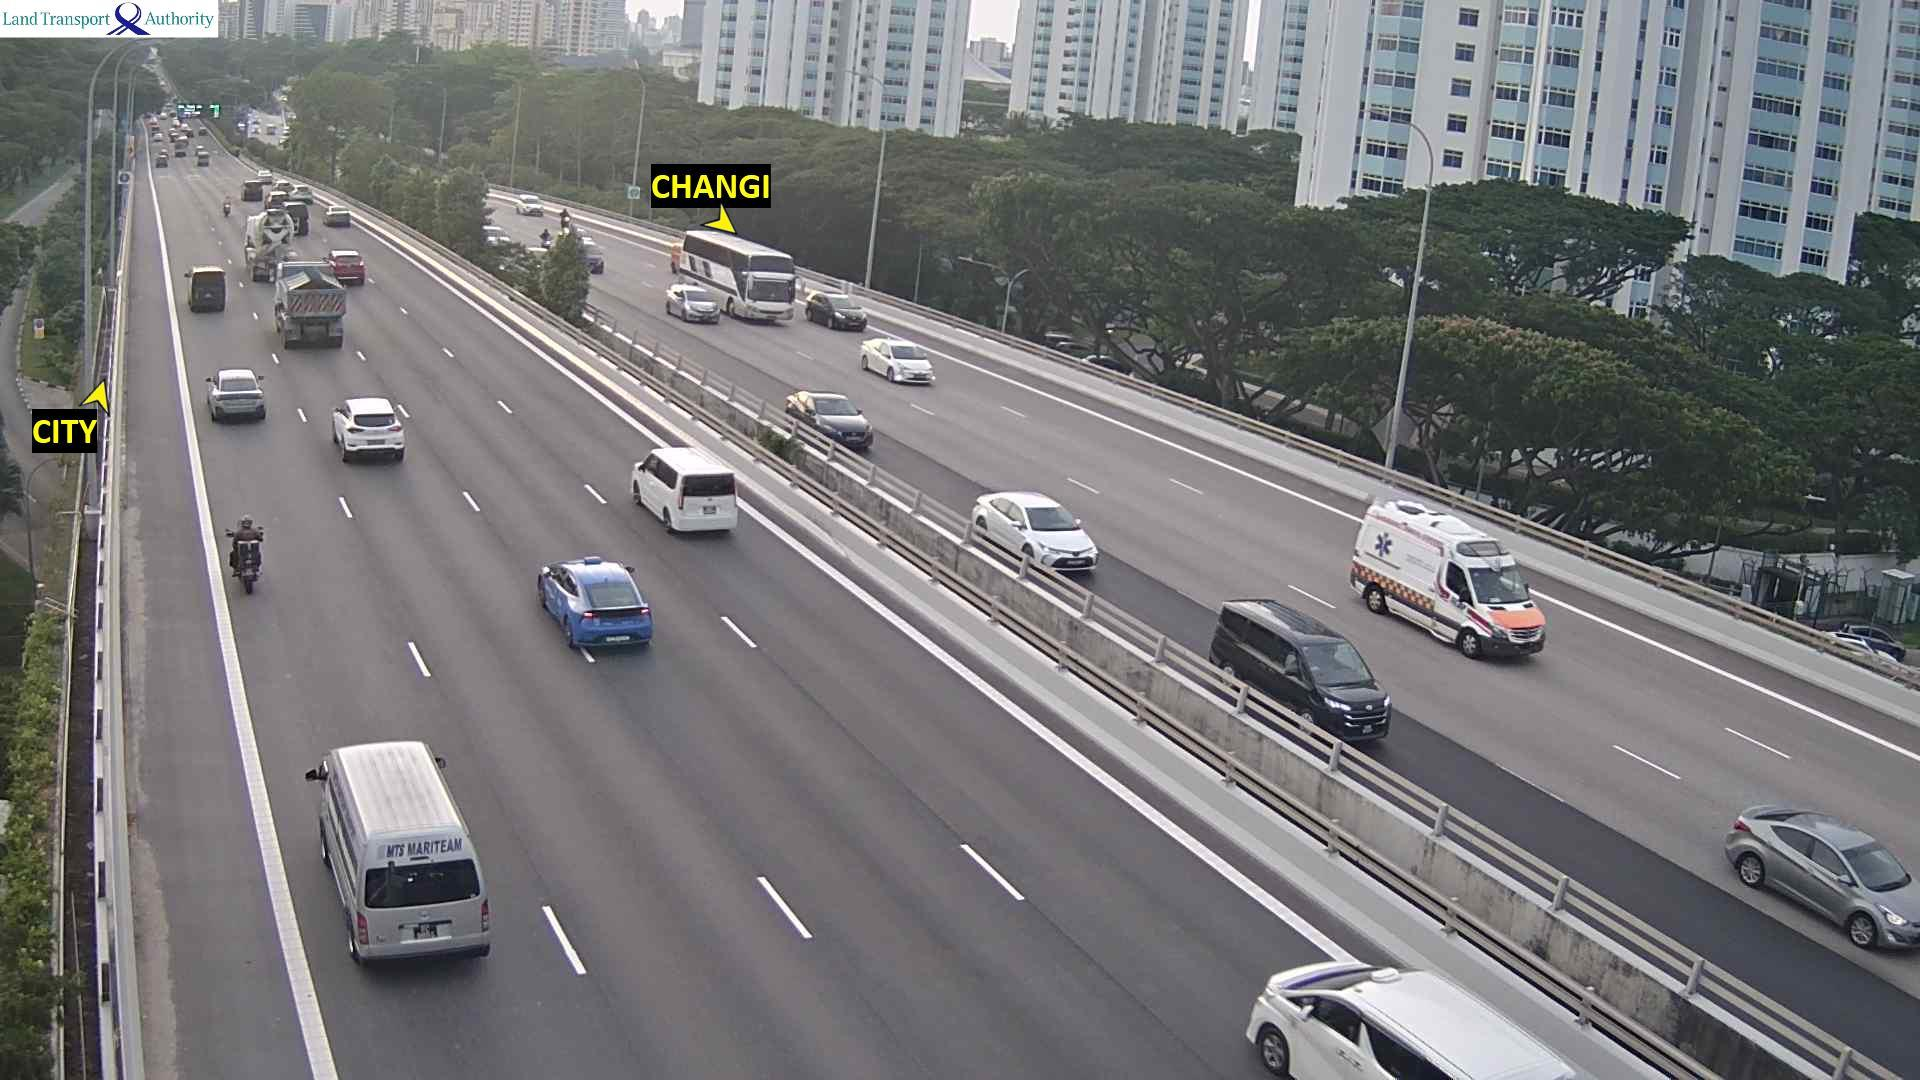incoming: (1296, 640, 1394, 740), (1834, 849, 1920, 953), (1461, 556, 1547, 658), (1017, 501, 1097, 570), (745, 251, 798, 323), (811, 400, 878, 448), (885, 345, 938, 384), (824, 295, 869, 334), (682, 289, 720, 326), (585, 247, 611, 276), (520, 195, 546, 218)
